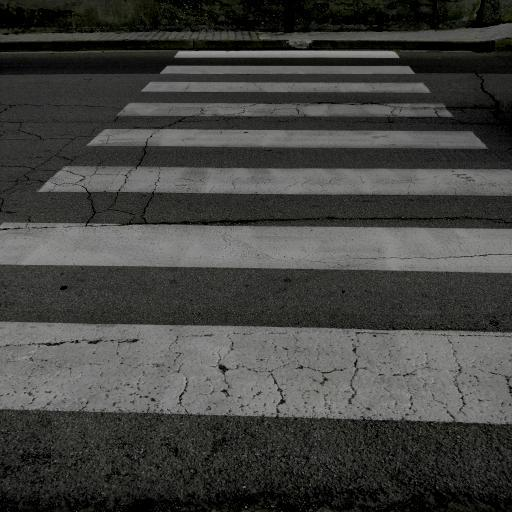crosswalk: (1, 215, 511, 430), (68, 98, 494, 158), (144, 46, 430, 78)
